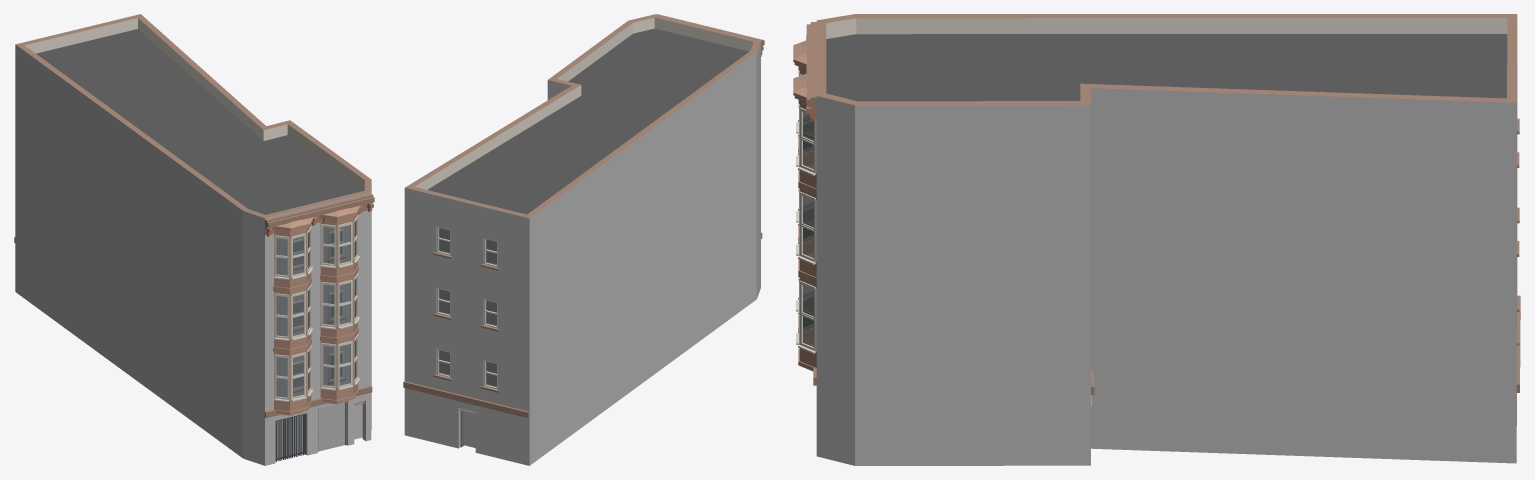
Rendered from exterior.glb.
3 views of the same model, side by side, from view 1: azimuth 30°, elevation 25°; view 2: azimuth 150°, elevation 25°; view 3: azimuth 270°, elevation 25° (orthographic). The views are drawn at different scales.
Parts seen in each view (by area): view 1: shell, roof, bay-glazing-hyb, bay-windows-hyb, shadow-proxy, storefront, trim, glazing, frames; view 2: shell, roof, shadow-proxy, trim, glazing, frames; view 3: shell, roof, bay-glazing-hyb, bay-windows-hyb, trim.
Part boxes in pixels (left/top/right/bottom): shell: left=15, top=14, right=371, bottom=465; roof: left=36, top=29, right=363, bottom=214; bay-glazing-hyb: left=274, top=215, right=360, bottom=401; bay-windows-hyb: left=272, top=205, right=360, bottom=415; shadow-proxy: left=276, top=225, right=362, bottom=458; storefront: left=275, top=401, right=365, bottom=461; trim: left=14, top=193, right=374, bottom=418; glazing: left=293, top=232, right=364, bottom=403; frames: left=293, top=229, right=343, bottom=390; shell: left=404, top=14, right=760, bottom=465; roof: left=427, top=28, right=748, bottom=214; shadow-proxy: left=440, top=228, right=496, bottom=447; trim: left=403, top=14, right=764, bottom=418; glazing: left=438, top=228, right=496, bottom=387; frames: left=436, top=226, right=497, bottom=389; shell: left=816, top=14, right=1517, bottom=465; roof: left=826, top=34, right=1507, bottom=101; bay-glazing-hyb: left=796, top=66, right=816, bottom=353; bay-windows-hyb: left=793, top=40, right=816, bottom=371; trim: left=806, top=22, right=1520, bottom=394.
Size of the model in its own units: 7.6 by 13.99 by 25.57.
